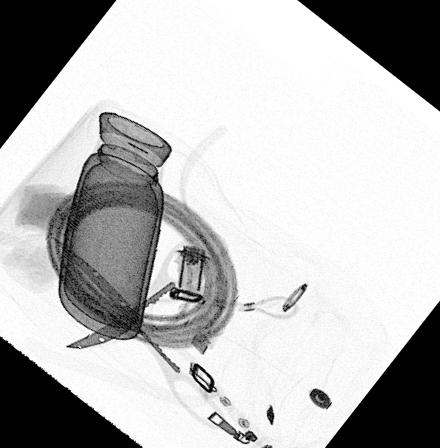Scissors: (50, 232, 229, 432)
